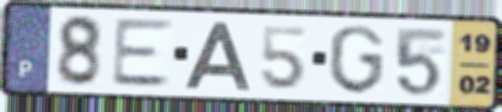5: (393, 26, 449, 98), (257, 23, 309, 91)
8: (54, 13, 105, 89)
A: (182, 19, 253, 92)
E: (109, 17, 177, 89)
G: (327, 23, 387, 97)
